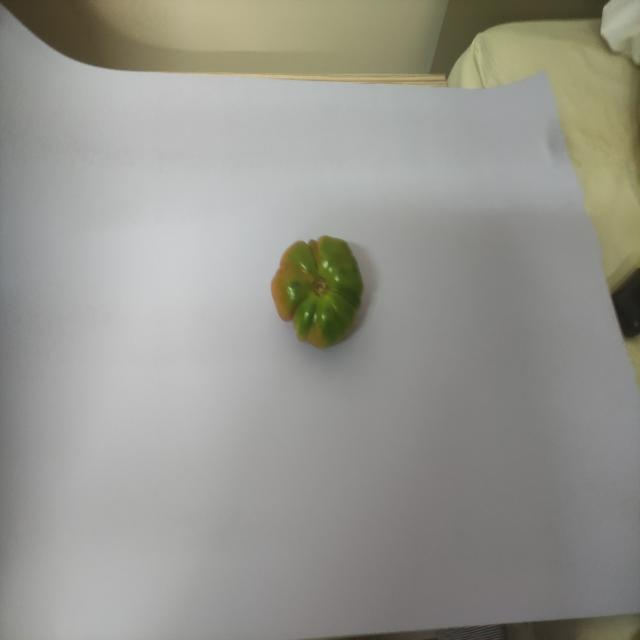yesil: (253, 221, 392, 361)
